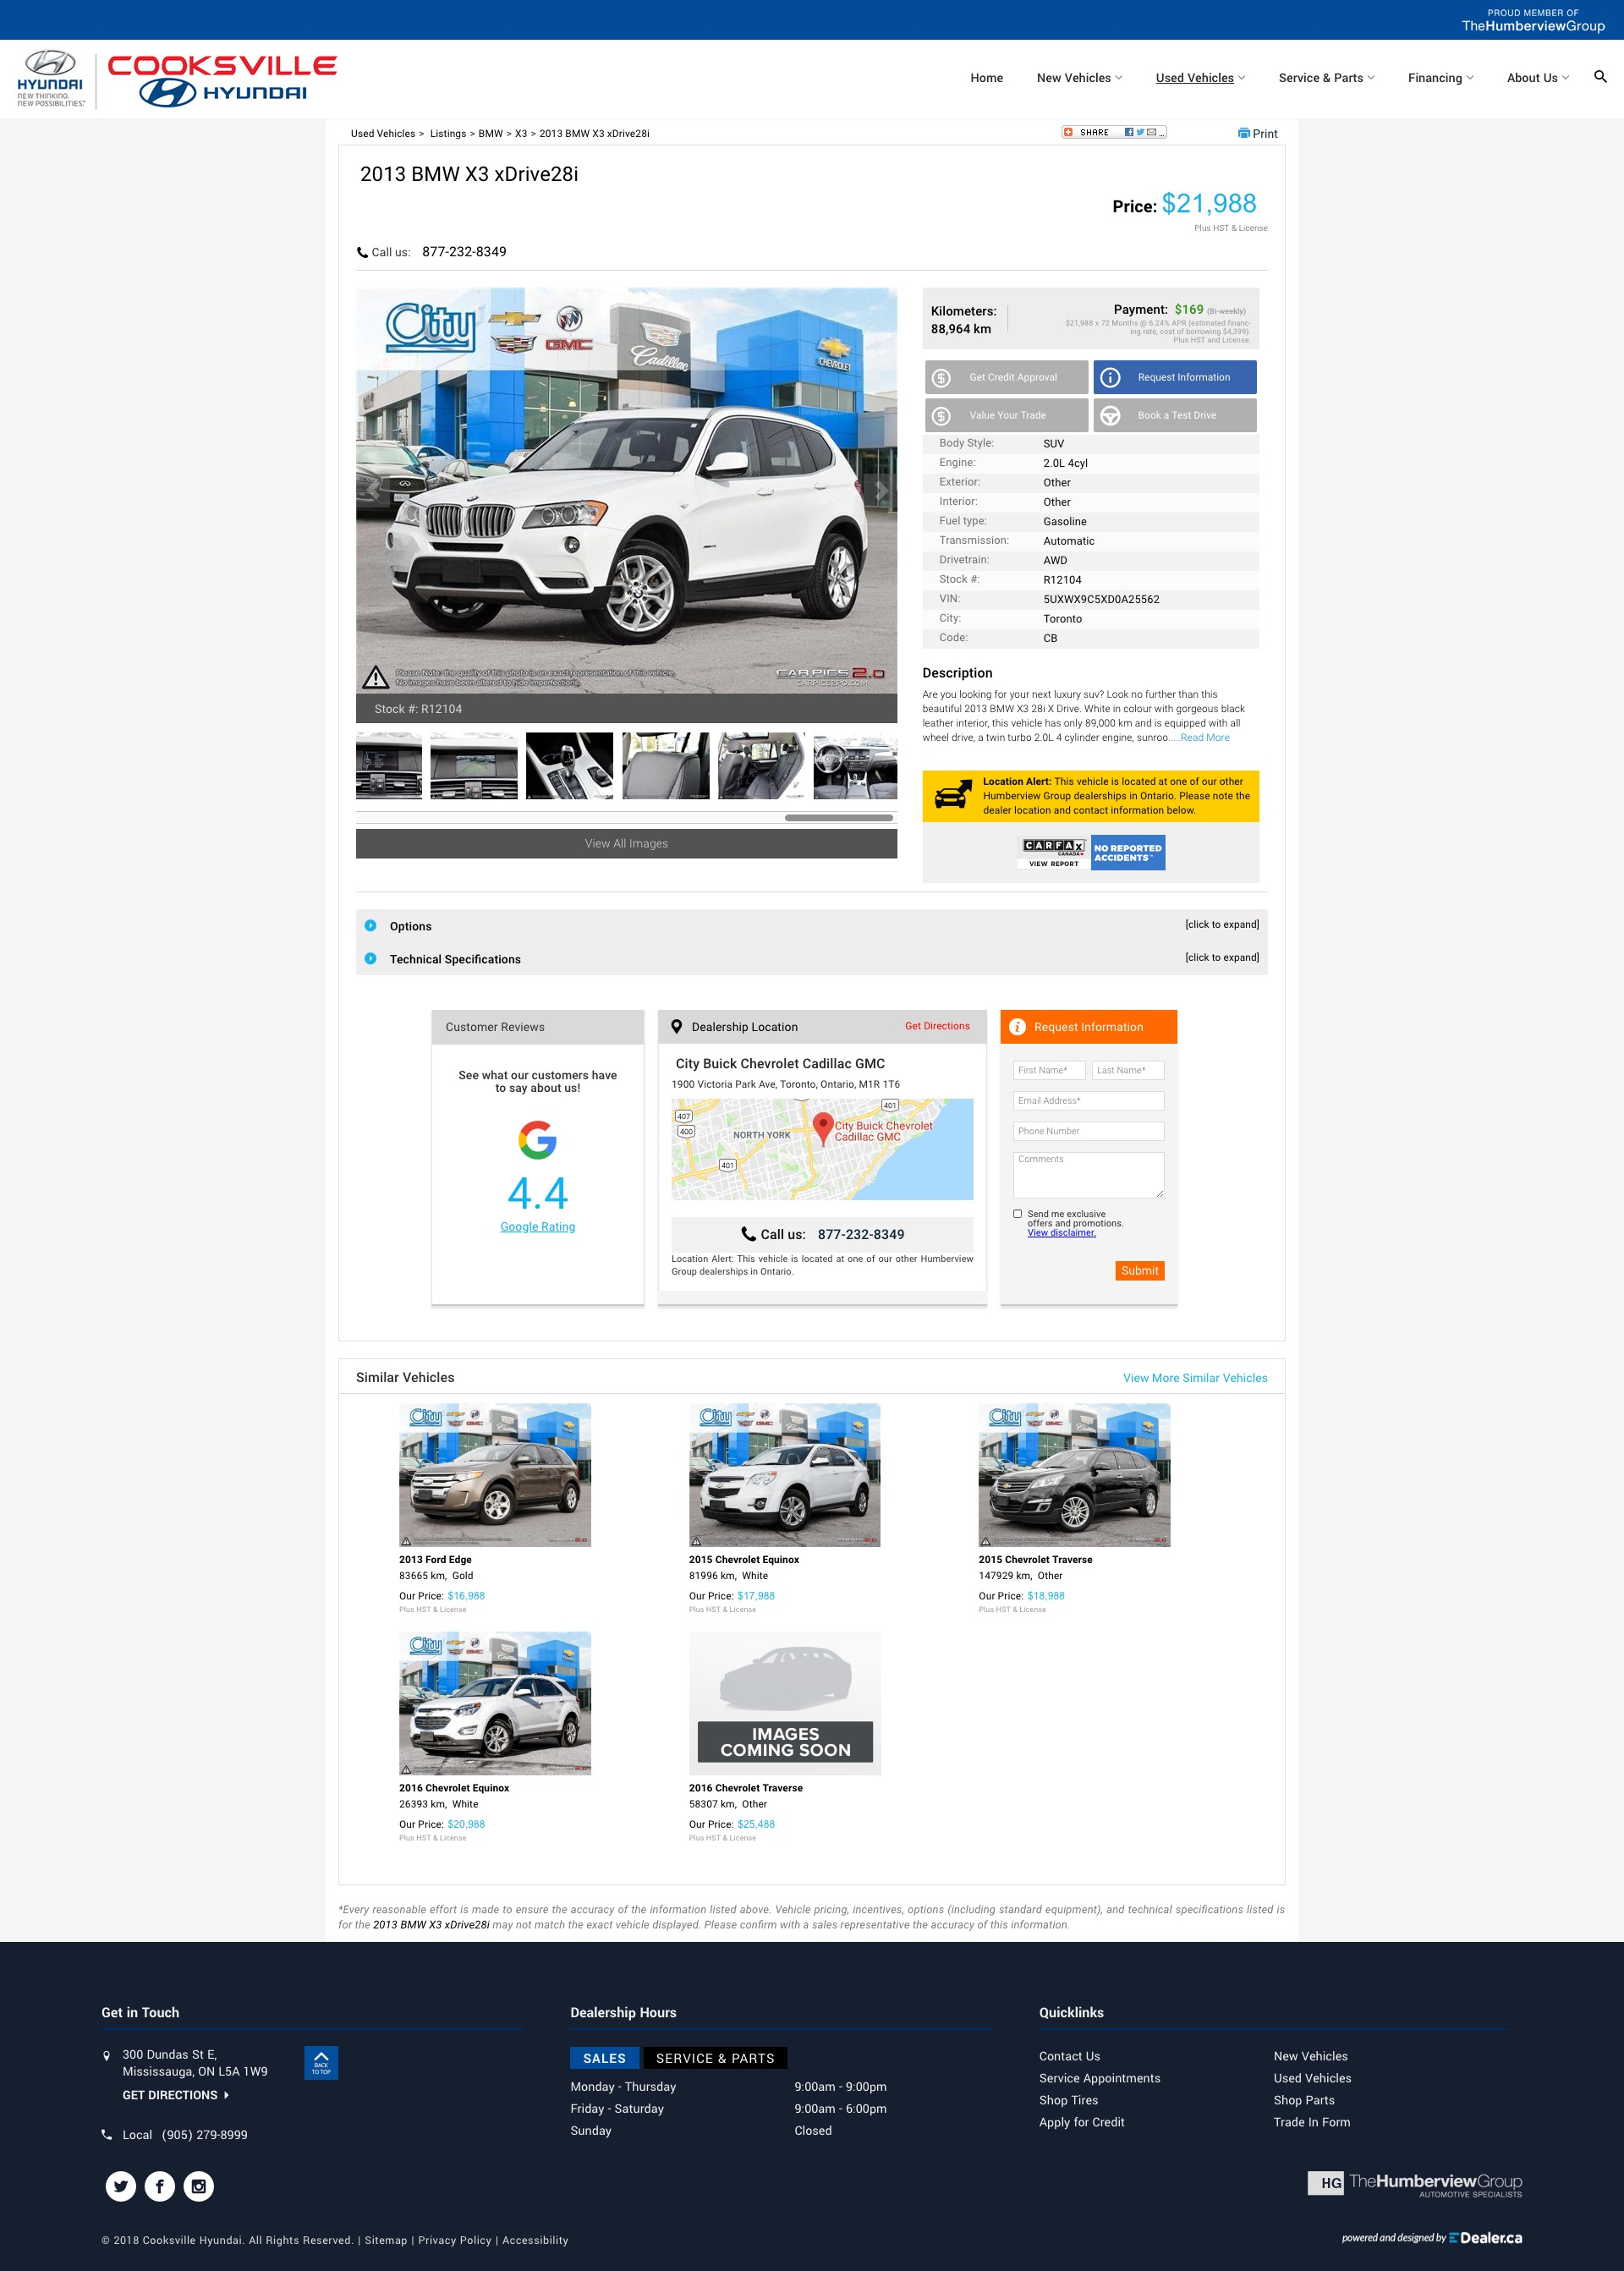car: (863, 475, 898, 508)
